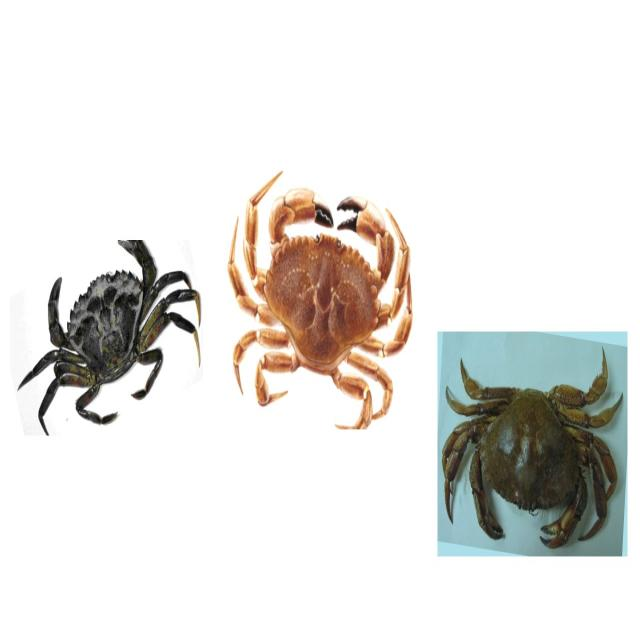egc: (11, 233, 208, 439)
jonah_crab: (229, 169, 421, 434)
rock_crab: (441, 346, 624, 550)
